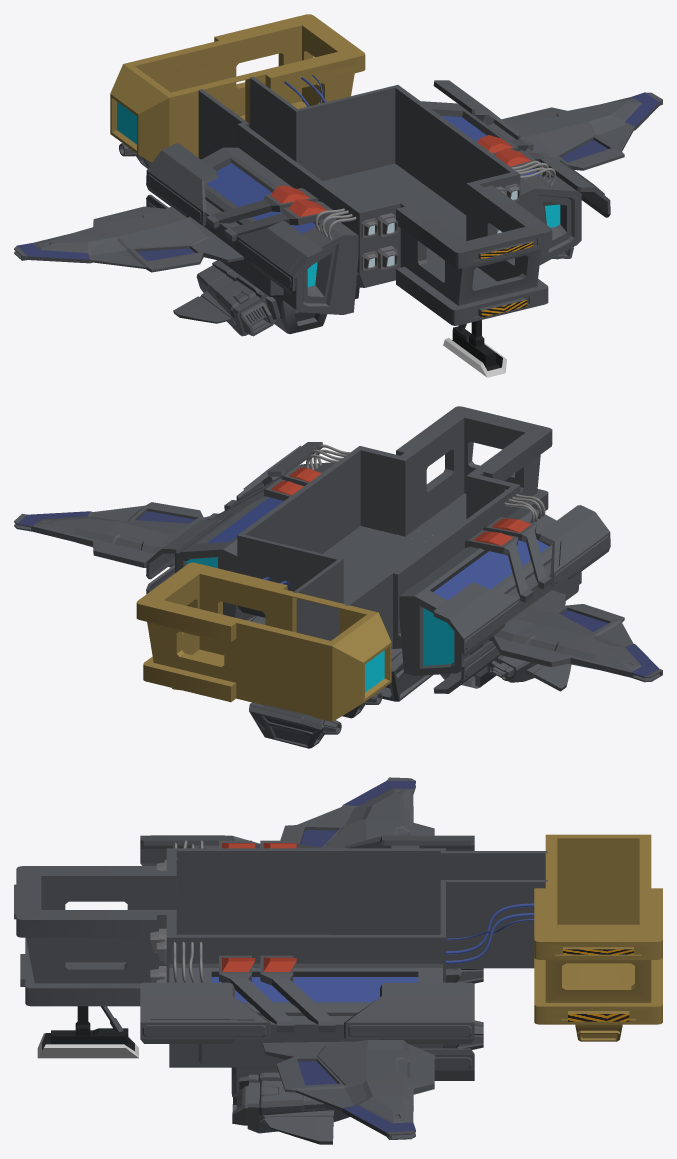
Rendered from m_ship.fbx.
The picture shows the model from 3 angles, top to bottom: view 1: azimuth 30°, elevation 25°; view 2: azimuth 150°, elevation 25°; view 3: azimuth 270°, elevation 25°; orthographic projection. The views are drawn at different scales.
Parts seen in each view (by area): view 1: mainship; view 2: mainship; view 3: mainship.
Boxes of the visible parts, <box> form: mainship: <box>14,14,662,377</box>; mainship: <box>14,406,662,748</box>; mainship: <box>14,777,662,1144</box>.
Bounding box in the file's own units: 4442 × 959 × 3413.
